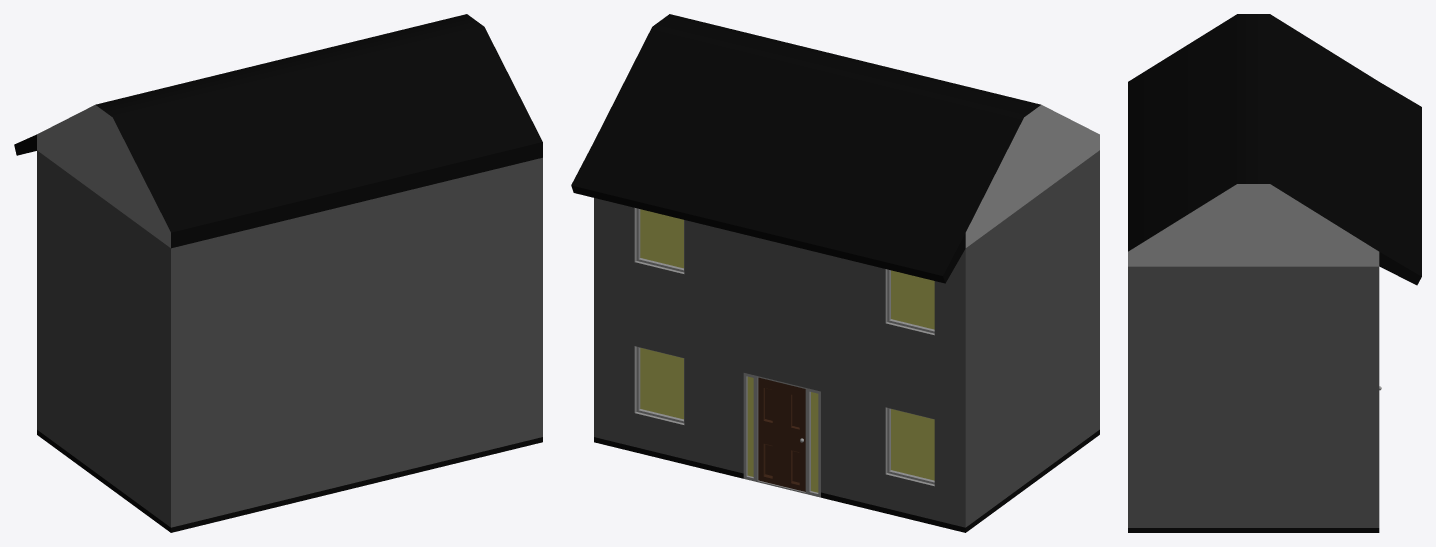
File: House.fbx
3 renders of one model, left to right at view 1: azimuth 30°, elevation 25°; view 2: azimuth 150°, elevation 25°; view 3: azimuth 270°, elevation 25°, orthographic. The views are drawn at different scales.
Parts seen in each view (by area): view 1: House; view 2: House; view 3: House.
Boxes of the visible parts, x1,y1,x2,y2 form: House: (14, 14, 542, 532); House: (571, 14, 1099, 532); House: (1128, 14, 1421, 532).
Size of the model in its own units: 1219 by 1168 by 891.
